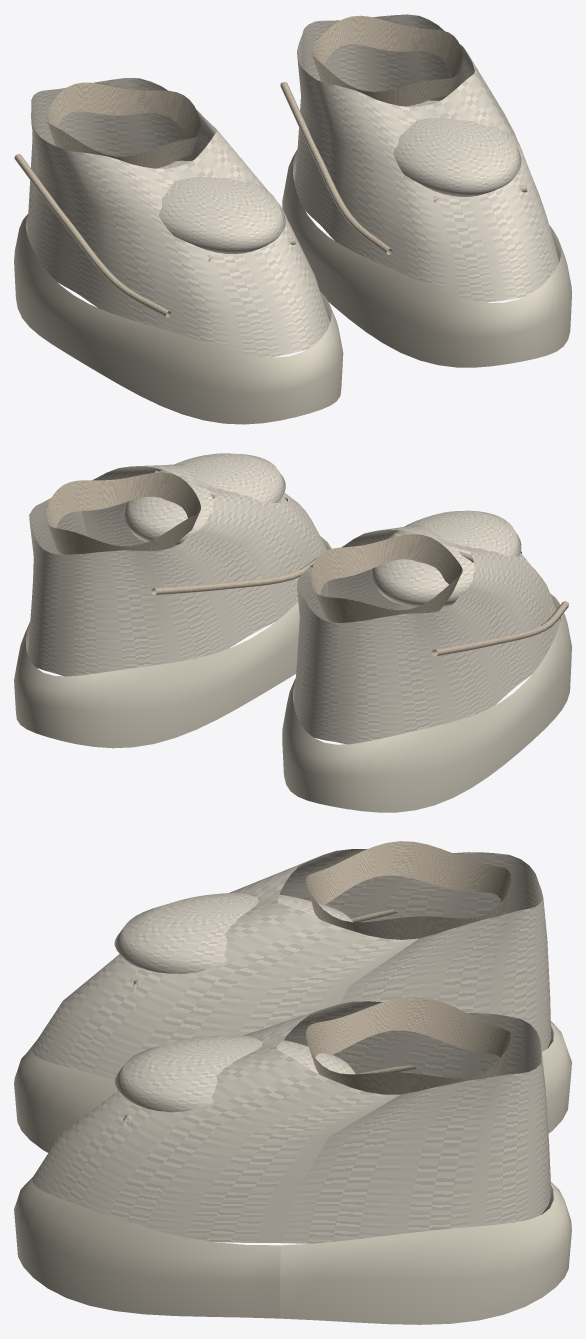
The picture shows the model from 3 angles, top to bottom: view 1: azimuth 30°, elevation 25°; view 2: azimuth 150°, elevation 25°; view 3: azimuth 270°, elevation 25°; orthographic projection. The views are drawn at different scales.
Parts seen in each view (by area): view 1: fabric_cream, rubber_ivory, fabric_linen; view 2: fabric_cream, rubber_ivory, fabric_linen; view 3: fabric_cream, rubber_ivory, fabric_linen.
Part boxes in pixels (<box>): fabric_cream: <box>27,14,559,357</box>; rubber_ivory: <box>14,149,571,424</box>; fabric_linen: <box>14,15,527,317</box>; fabric_cream: <box>27,453,560,744</box>; rubber_ivory: <box>14,536,571,812</box>; fabric_linen: <box>46,471,568,656</box>; fabric_cream: <box>32,849,551,1243</box>; rubber_ivory: <box>14,1021,571,1324</box>; fabric_linen: <box>123,841,510,1126</box>.
Bounding box in the file's own units: 0.3858 × 0.16 × 0.3366.
3 materials, 2 textured.
